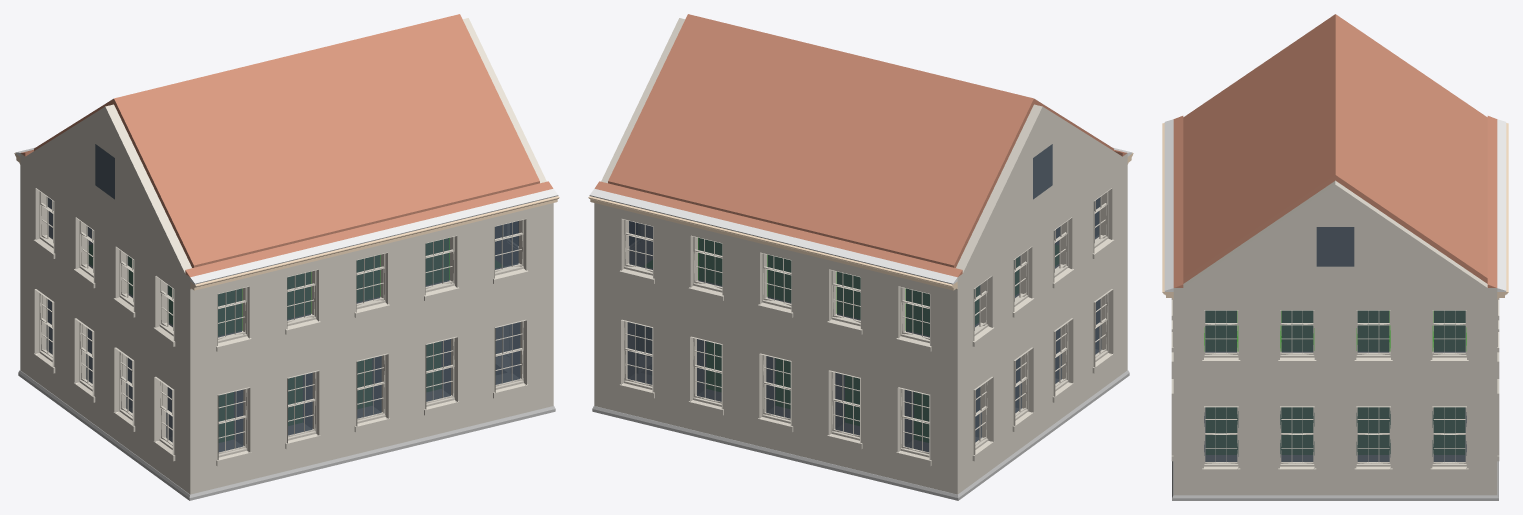
3 renders of one model, left to right at view 1: azimuth 30°, elevation 25°; view 2: azimuth 150°, elevation 25°; view 3: azimuth 270°, elevation 25°, orthographic. The views are drawn at different scales.
Size of the model in its own units: 10.6 by 9.36 by 9.1.
